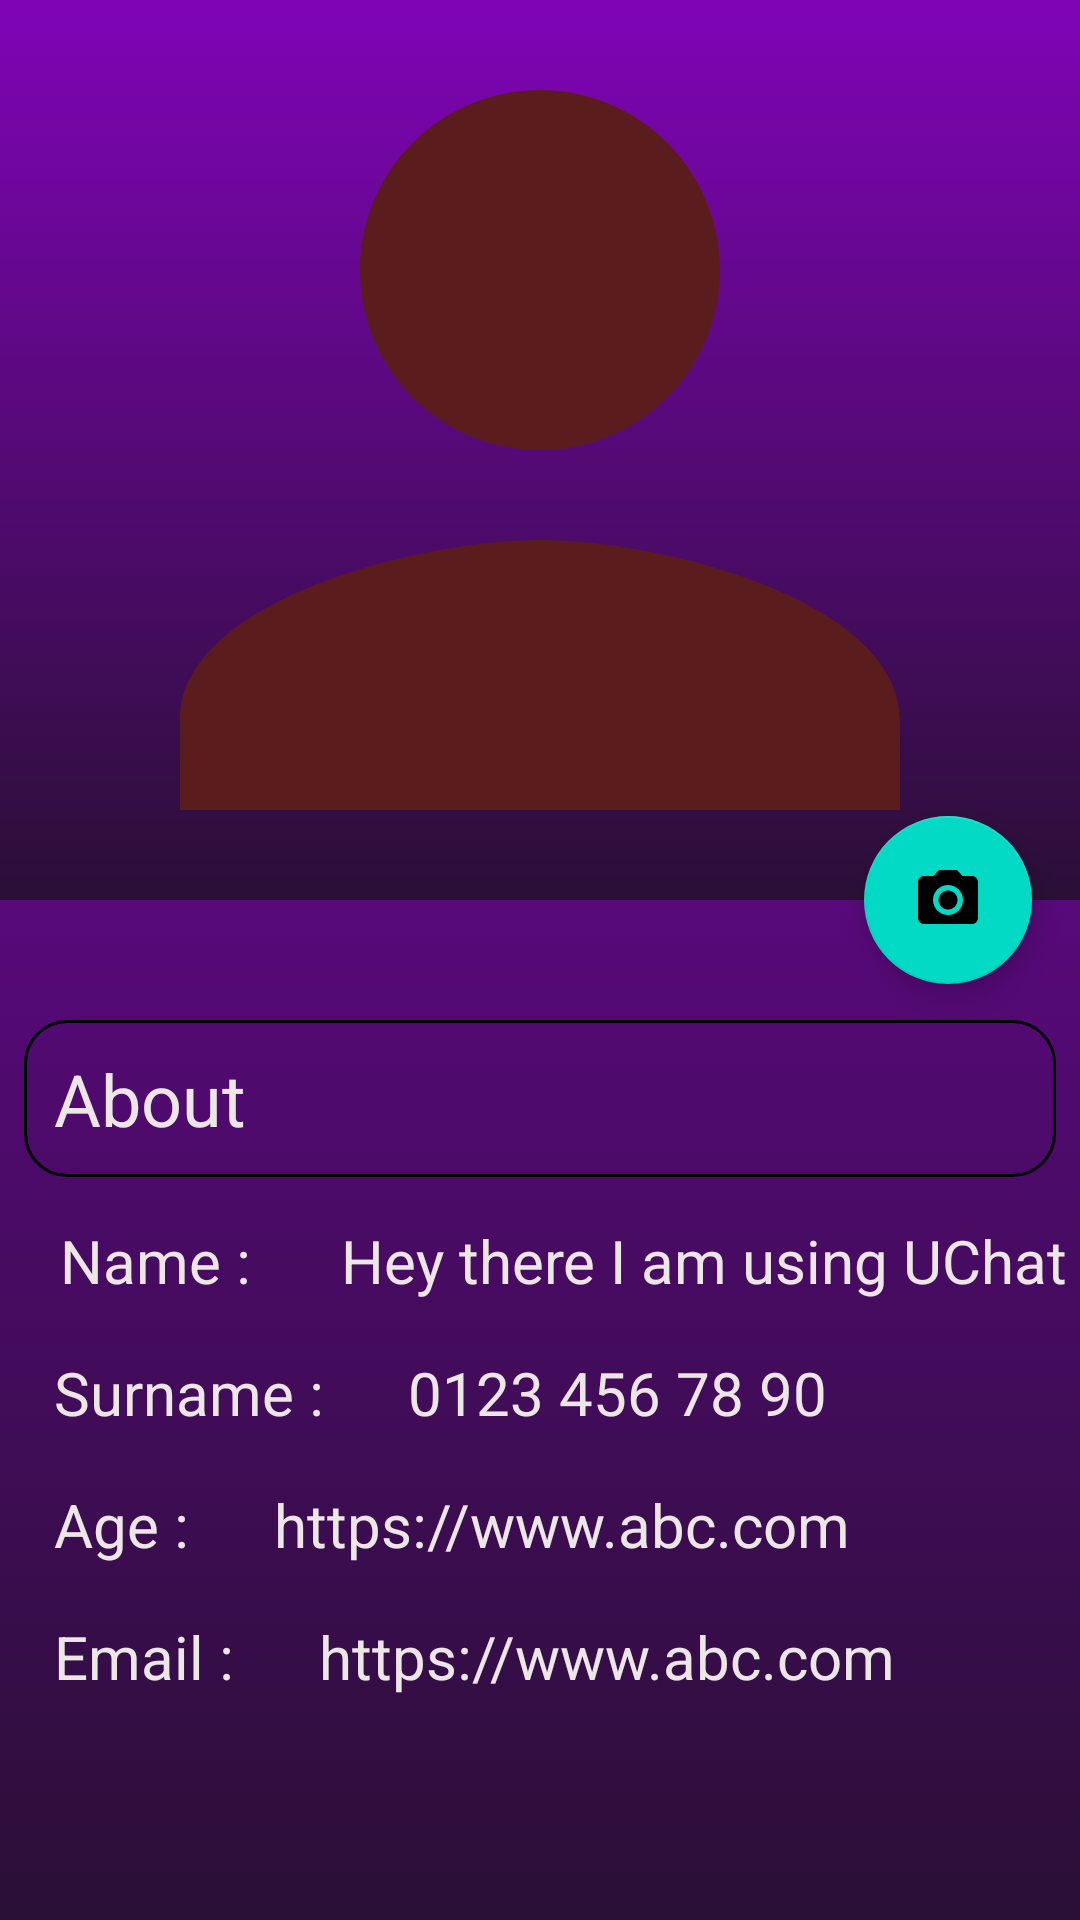

Point at icon controls on the screen. Image size 1080w x 1920h, points as [x,y].
camera: [948,900]
